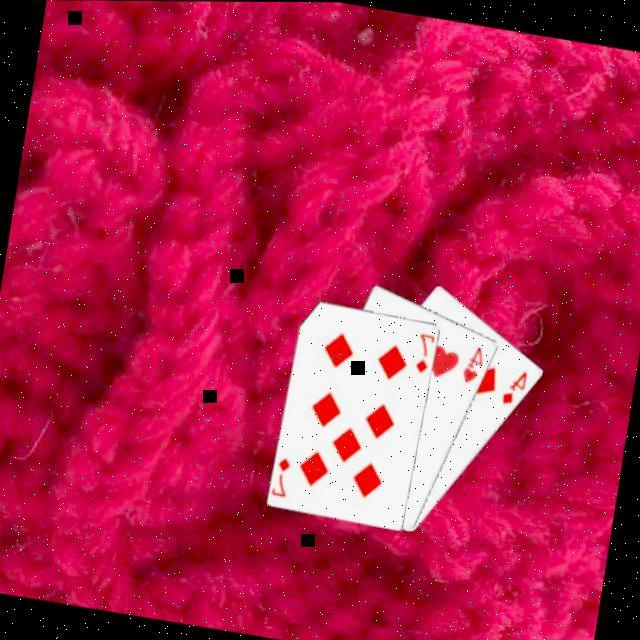4D: (499, 365, 533, 410)
4H: (460, 341, 491, 388)
7D: (413, 330, 438, 378), (272, 453, 297, 501)
